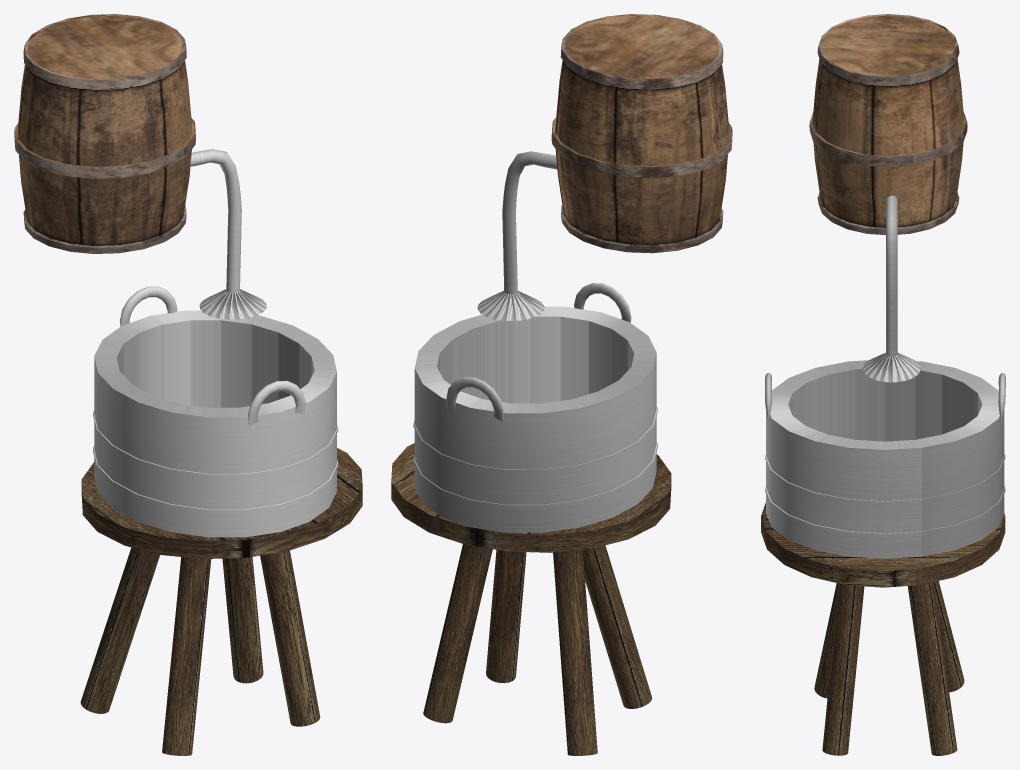
File: lavaplatos.obj
3 renders of one model, left to right at view 1: azimuth 30°, elevation 25°; view 2: azimuth 150°, elevation 25°; view 3: azimuth 270°, elevation 25°, orthographic. The views are drawn at different scales.
Parts seen in each view (by area): view 1: polySurface35, polySurface31; view 2: polySurface35, polySurface31; view 3: polySurface35, polySurface31.
Part boxes in pixels (x1,y1,x2,y2): polySurface35: (80, 286, 362, 755); polySurface31: (14, 14, 266, 319); polySurface35: (391, 283, 671, 755); polySurface31: (477, 14, 732, 320); polySurface35: (761, 360, 1005, 755); polySurface31: (809, 14, 967, 382).
Bounding box in the file's own units: 7.58 × 15.76 × 5.54.
5 materials, 4 textured.
